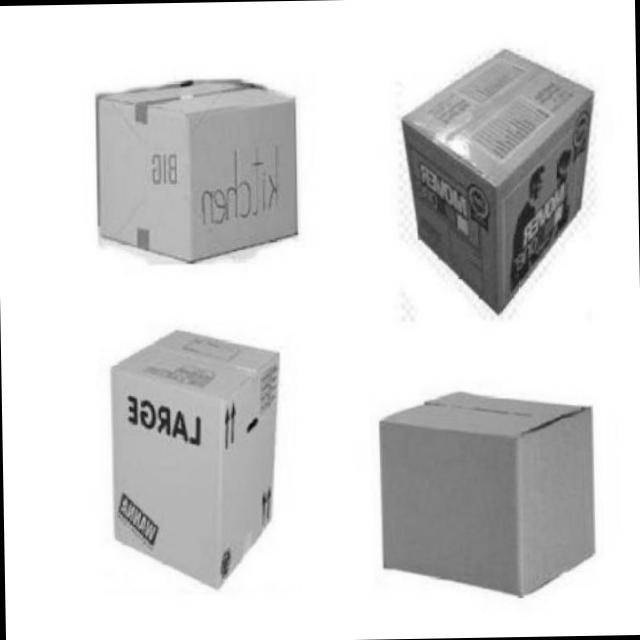box: (94, 327, 288, 596), (370, 384, 600, 602), (88, 76, 302, 270)
